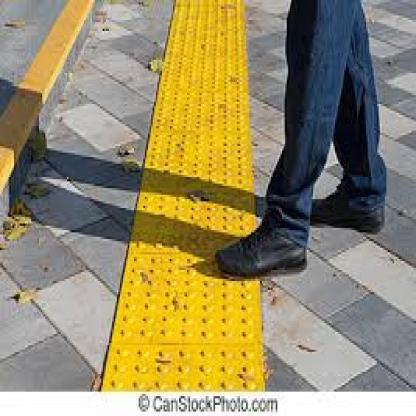podotacti: (101, 0, 299, 394)
